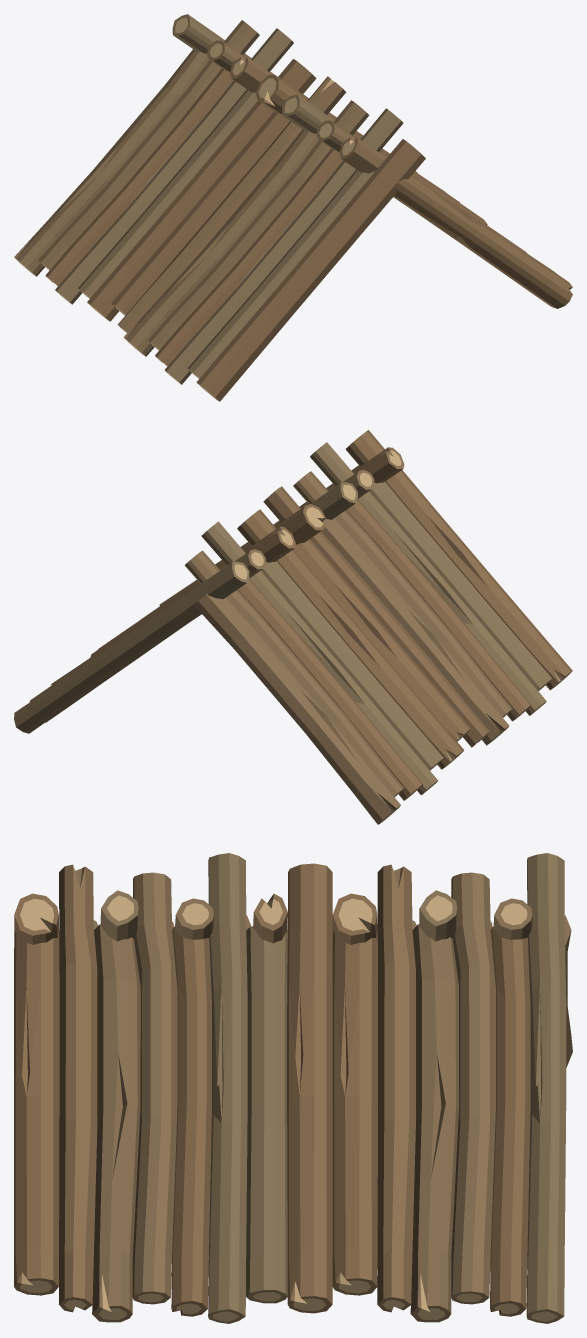
The model's file is rpgpp_ag_tower_01_platform_02_roof_01a.fbx.
3 views of the same model, one above another, from view 1: azimuth 30°, elevation 25°; view 2: azimuth 150°, elevation 25°; view 3: azimuth 270°, elevation 25° (orthographic). The views are drawn at different scales.
Visible parts, largest first — view 1: rpgpp_ag_tower_01_platform_02_roof_01a; view 2: rpgpp_ag_tower_01_platform_02_roof_01a; view 3: rpgpp_ag_tower_01_platform_02_roof_01a.
Boxes of the visible parts, x1,y1,x2,y2 form: rpgpp_ag_tower_01_platform_02_roof_01a: [14, 14, 572, 401]; rpgpp_ag_tower_01_platform_02_roof_01a: [14, 430, 572, 824]; rpgpp_ag_tower_01_platform_02_roof_01a: [14, 853, 572, 1323].
Size of the model in its own units: 6.16 by 3.4 by 5.26.
